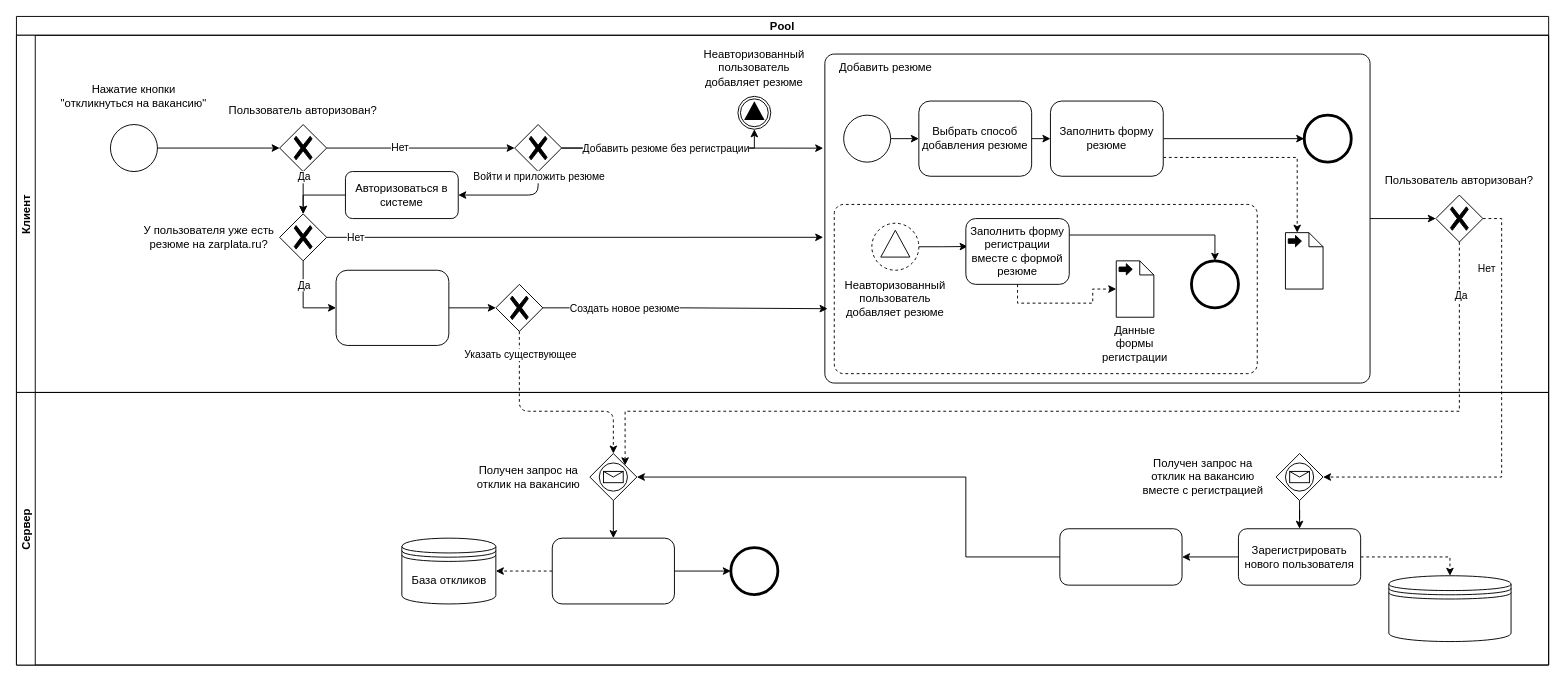
The diagram is 1565 pixels wide and 682 high, and some of its shapes have lost their labels. The centre of each missing label's shape, as x and y in pixels:
"База пользователей" goes at point (1449, 608).
"Выбрать, указать сущестувющее резюме или создать новое" goes at point (392, 307).
"Данные формы резюме" goes at point (1304, 260).
"Добавить данный отклик в список откликов вакасии" goes at point (612, 570).
"Отпраить запрос на отклик для нового пользователя" goes at point (1120, 556).
